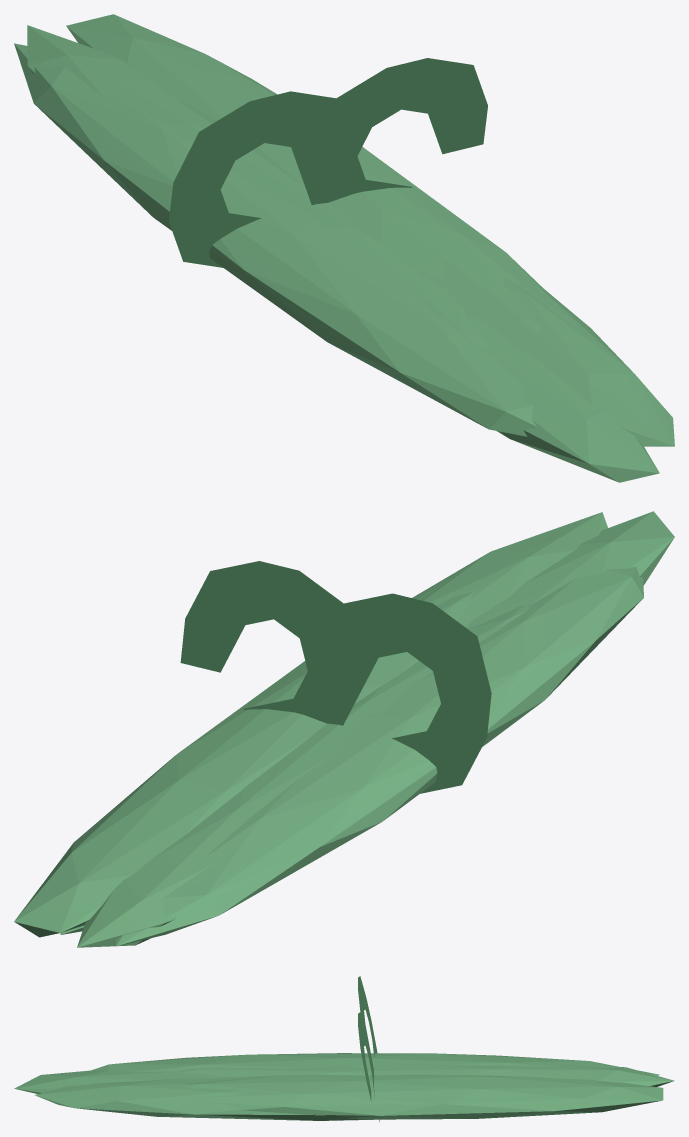
The model's file is selaginella-repanda.glb.
The picture shows the model from 3 angles, top to bottom: view 1: azimuth 30°, elevation 25°; view 2: azimuth 150°, elevation 25°; view 3: azimuth 270°, elevation 25°; orthographic projection. The views are drawn at different scales.
Visible parts, largest first — view 1: frond3, frond0, fiddle1, frond4, fiddle-1, frond1, frond2; view 2: frond3, frond0, fiddle-1, fiddle1, frond4, frond1, frond2; view 3: frond0, frond1, frond3, frond4, frond2, fiddle-1, fiddle1.
Boxes of the visible parts, x1,y1,x2,y2 form: frond3: (14, 43, 536, 436); frond0: (66, 14, 586, 334); fiddle1: (305, 58, 487, 205); frond4: (27, 25, 489, 349); fiddle-1: (168, 91, 345, 267); frond1: (448, 277, 674, 446); frond2: (463, 309, 659, 482); frond3: (115, 566, 643, 946); frond0: (14, 583, 473, 937); fiddle-1: (320, 593, 491, 793); fiddle1: (180, 561, 358, 725); frond4: (77, 604, 530, 947); frond1: (412, 512, 607, 627); frond2: (466, 511, 674, 628); frond0: (171, 1074, 663, 1119); frond1: (34, 1077, 373, 1120); frond3: (92, 1053, 659, 1075); frond4: (177, 1060, 674, 1086); frond2: (14, 1070, 224, 1093); fiddle-1: (358, 976, 377, 1065); fiddle1: (358, 1012, 379, 1122).
Bounding box in the file's own units: 0.184 × 0.1061 × 0.6202.
